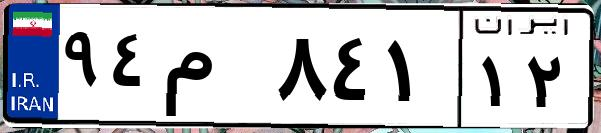1: (385, 28, 445, 110), (475, 38, 525, 113)
2: (525, 38, 570, 115)
4: (330, 28, 385, 110), (110, 28, 158, 98)
8: (270, 28, 330, 110)
9: (57, 26, 110, 100)
م: (158, 20, 270, 120)
